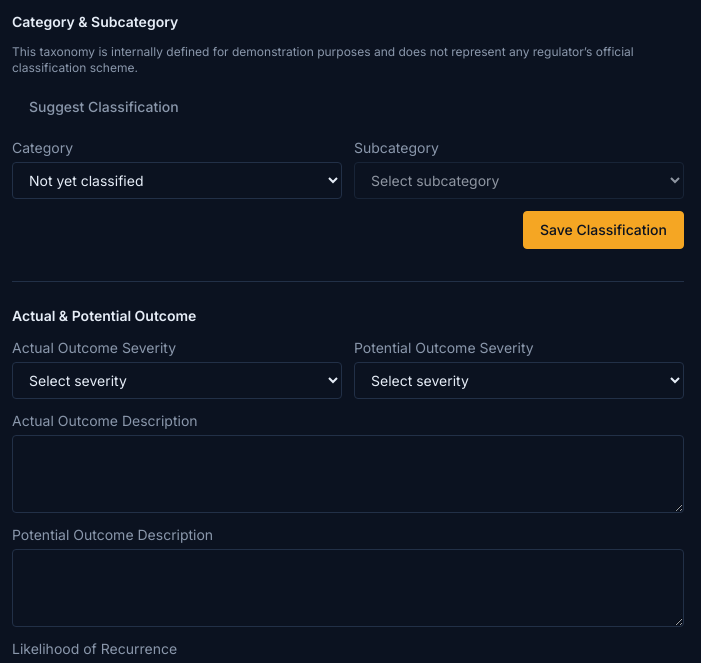
it: ClassificationPanel — Suggested Classification (rule-based, not AI) › requires explicit Accept before populating the Category field — never auto-applies
The image size is (701, 663).
Check: the dropdown labelled "Category" shows "Not yet classified", box 12,162 -> 342,199
Click the button "Suggest Classification". click: (104,107)
box: 12,88 -> 196,126
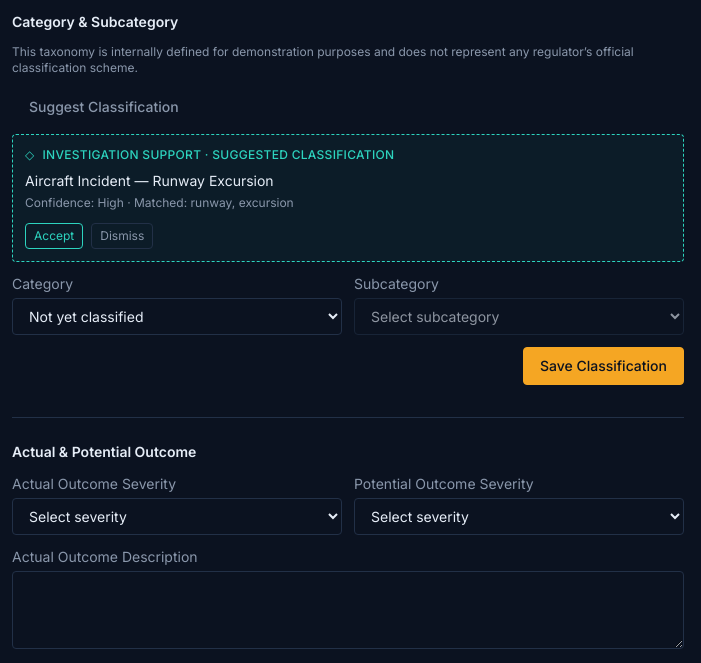
Check: the dropdown labelled "Category" shows "Not yet classified", box 12,298 -> 342,335
Check: the text "Investigation Support · Suggested Classification" is shown, box 42,147 -> 394,162
Check: the text "Confidence: High · Matched: runway, excursion" is shown, box 25,195 -> 294,210
Click the button "Accept". click: (54,236)
box: 25,223 -> 83,249
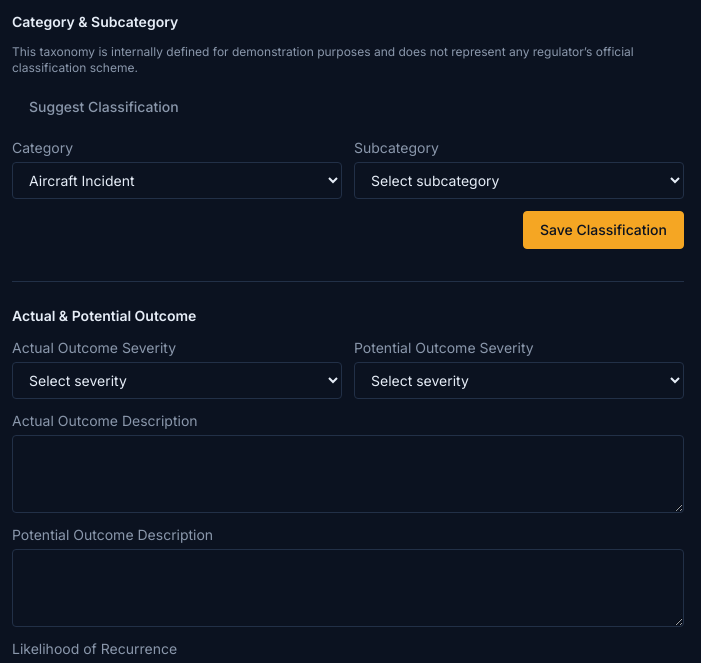
Check: the dropdown labelled "Category" shows "Aircraft Incident", box 12,162 -> 342,199
Check: the text "Investigation Support · Suggested Classification" is gone
